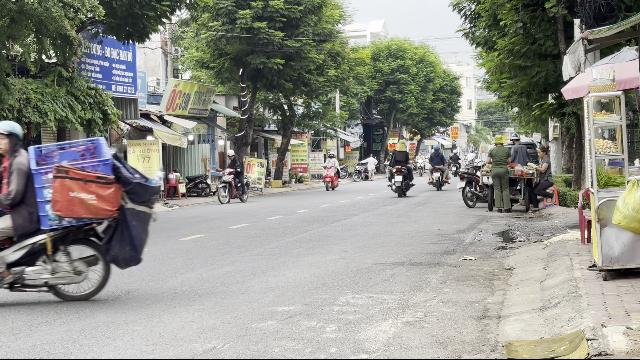motorcyclist: (1, 114, 147, 310)
